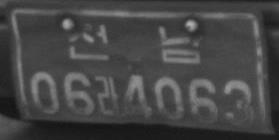0: (152, 74, 184, 121), (29, 70, 60, 115)
3: (223, 78, 252, 129)
4: (121, 73, 151, 119)
6: (187, 76, 219, 125), (62, 70, 95, 116)
라: (95, 74, 121, 117)
전남_D: (67, 19, 203, 66)
